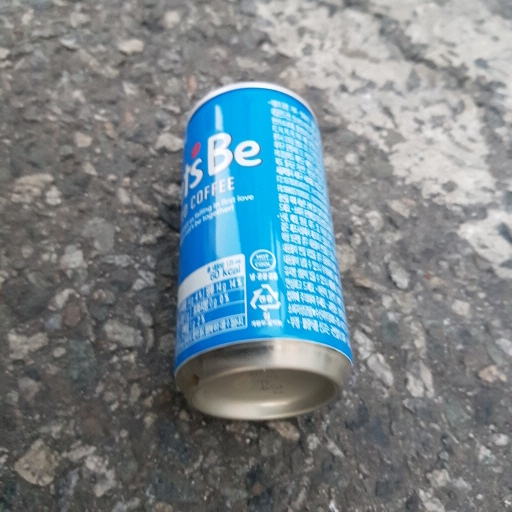Metal_0: (170, 81, 355, 419)
